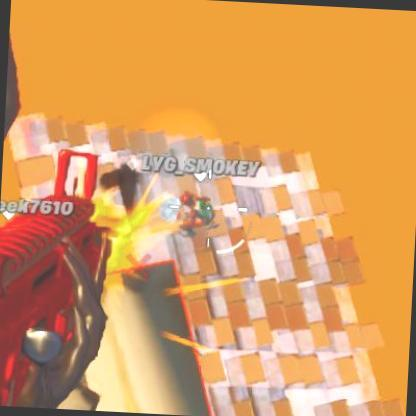person: (180, 192, 216, 236)
